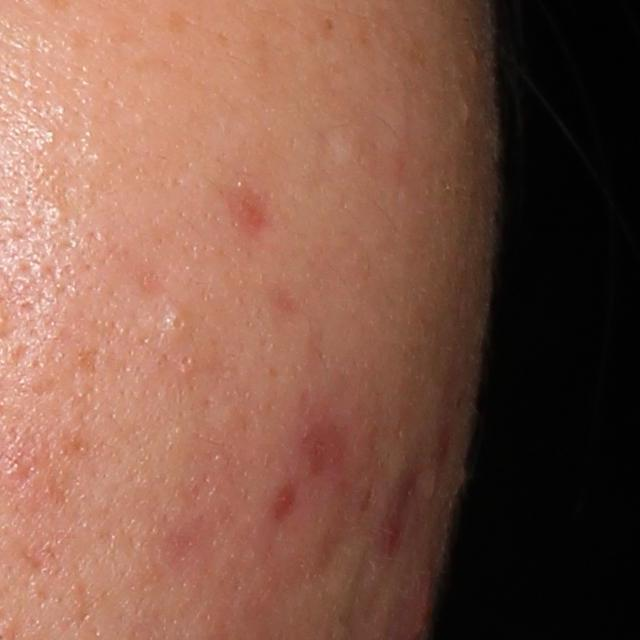comedo: (155, 299, 191, 341), (176, 350, 196, 370)
